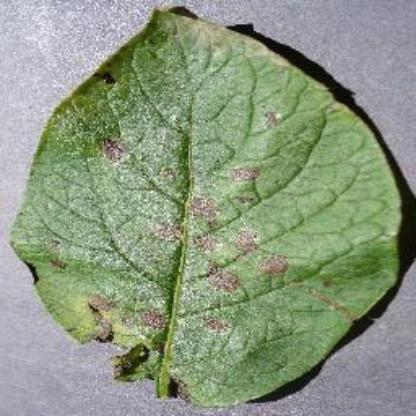Early-Blight: (8, 0, 415, 406)
